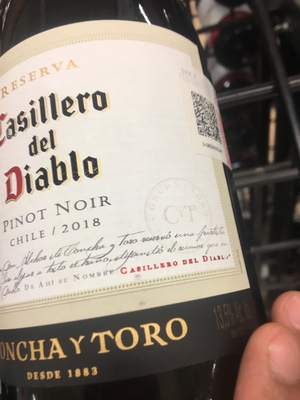casillero del diablo pinot noir: (2, 17, 267, 388)
